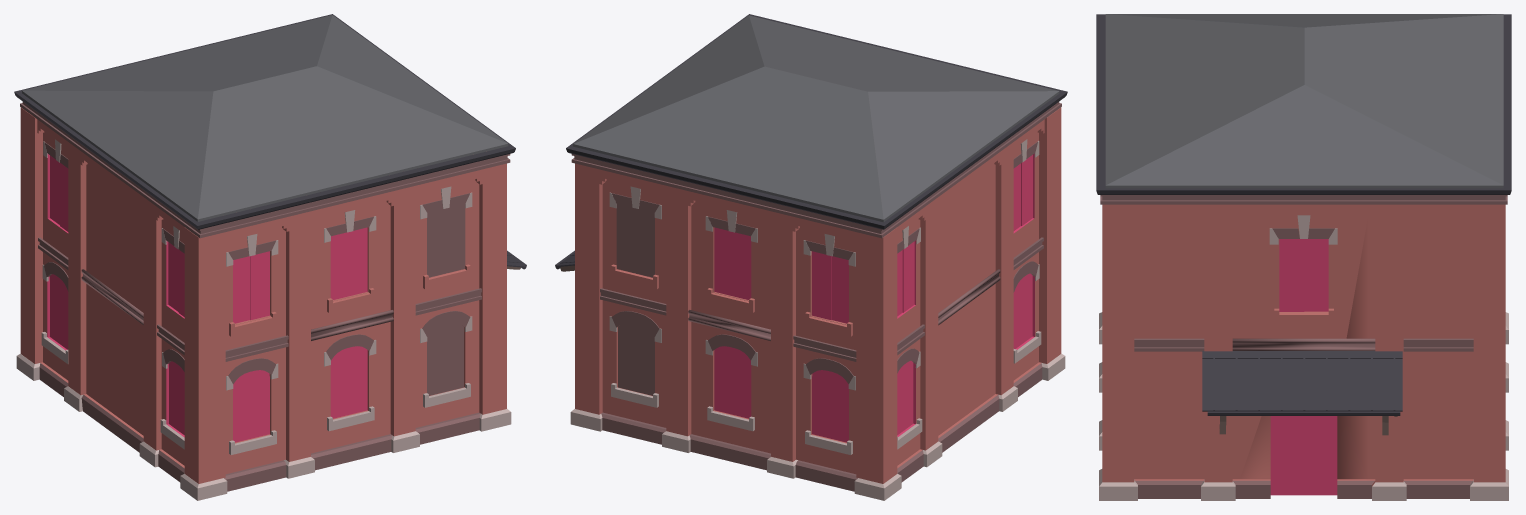
File: CocoonStoreHouse_001.fbx
The picture shows the model from 3 angles, left to right: view 1: azimuth 30°, elevation 25°; view 2: azimuth 150°, elevation 25°; view 3: azimuth 270°, elevation 25°; orthographic projection. The views are drawn at different scales.
Parts seen in each view (by area): view 1: CocoonStoreHouse.001; view 2: CocoonStoreHouse.001; view 3: CocoonStoreHouse.001.
Part boxes in pixels (x1=…): CocoonStoreHouse.001: x1=14, y1=14, x2=526, y2=500; CocoonStoreHouse.001: x1=555, y1=14, x2=1067, y2=500; CocoonStoreHouse.001: x1=1096, y1=14, x2=1511, y2=500.
Size of the model in its own units: 10.57 by 8.46 by 8.87.
